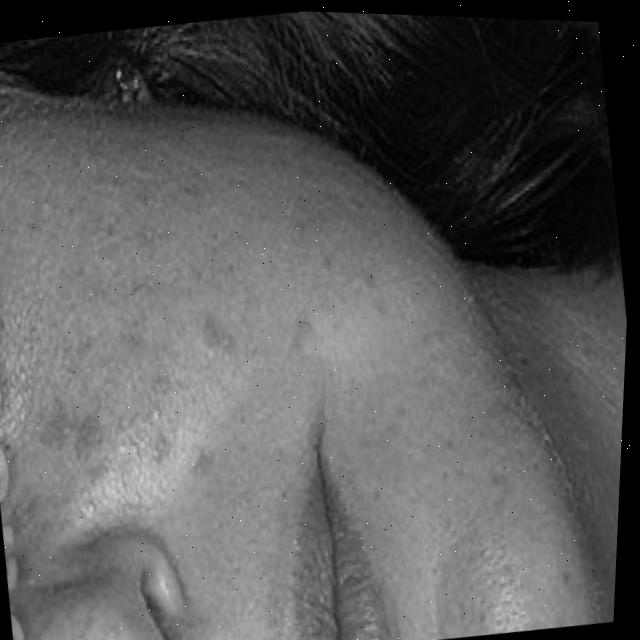Rosacea: (6, 215, 265, 503)
